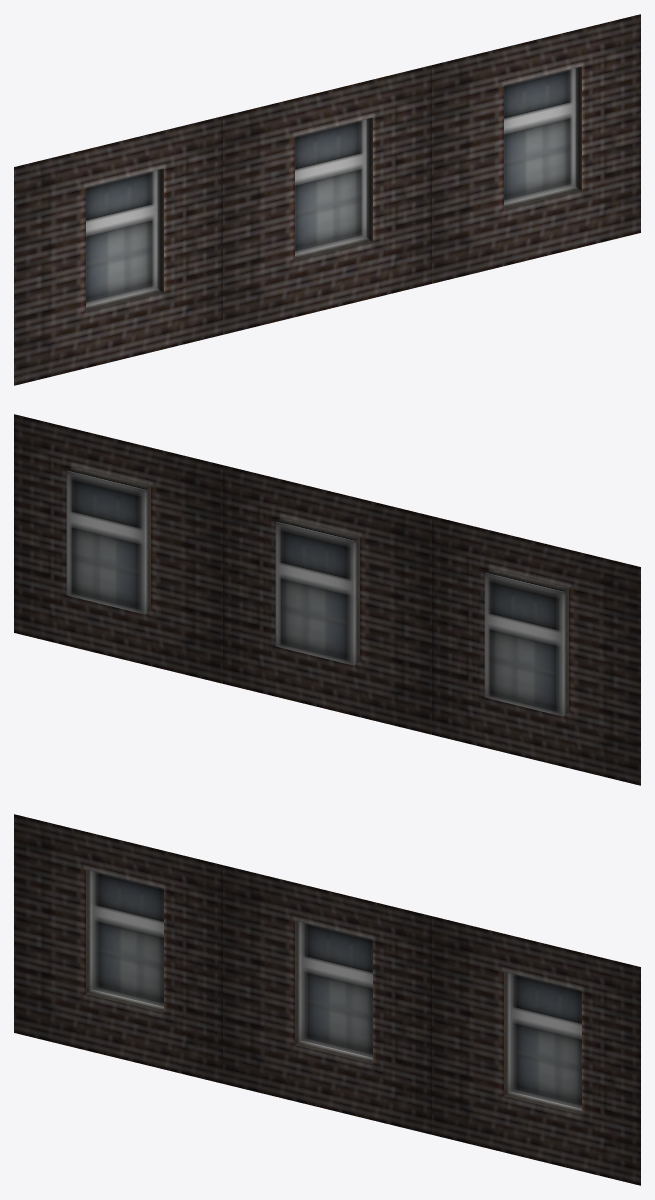
The model's file is B8_WindowB3x.FBX.
The picture shows the model from 3 angles, top to bottom: view 1: azimuth 30°, elevation 25°; view 2: azimuth 150°, elevation 25°; view 3: azimuth 330°, elevation 25°; orthographic projection.
Parts seen in each view (by area): view 1: B8_WindowB3x; view 2: B8_WindowB3x; view 3: B8_WindowB3x.
Boxes of the visible parts, x1=… form: B8_WindowB3x: x1=14, y1=14, x2=640, y2=385; B8_WindowB3x: x1=14, y1=414, x2=640, y2=785; B8_WindowB3x: x1=14, y1=814, x2=640, y2=1185.
Bounding box in the file's own units: 12 × 4 × 0.2091.
